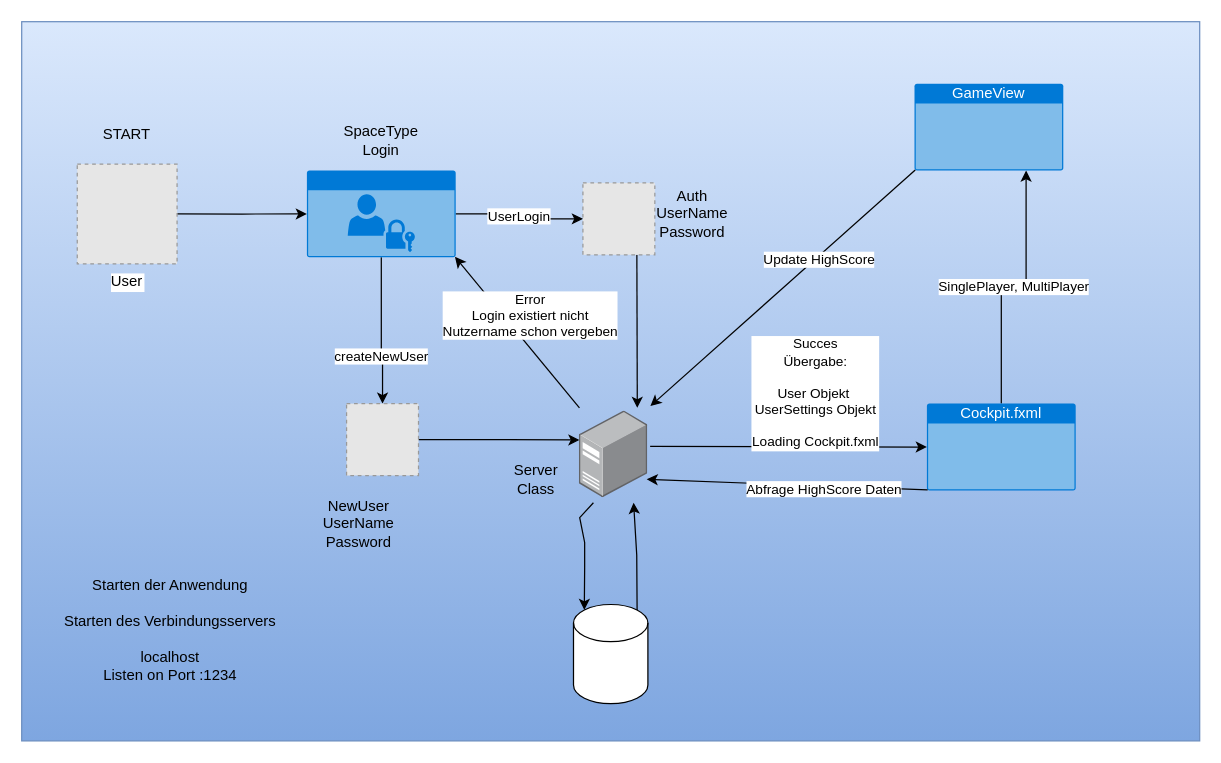
This 1221x763 diagram has some shape labels left out. Grey dashed boxes stand in for pictures. Each missing label, with the centre of its shape:
"LoginScreen" goes at (x=380, y=213).
"MySql Server" goes at (x=610, y=653).
